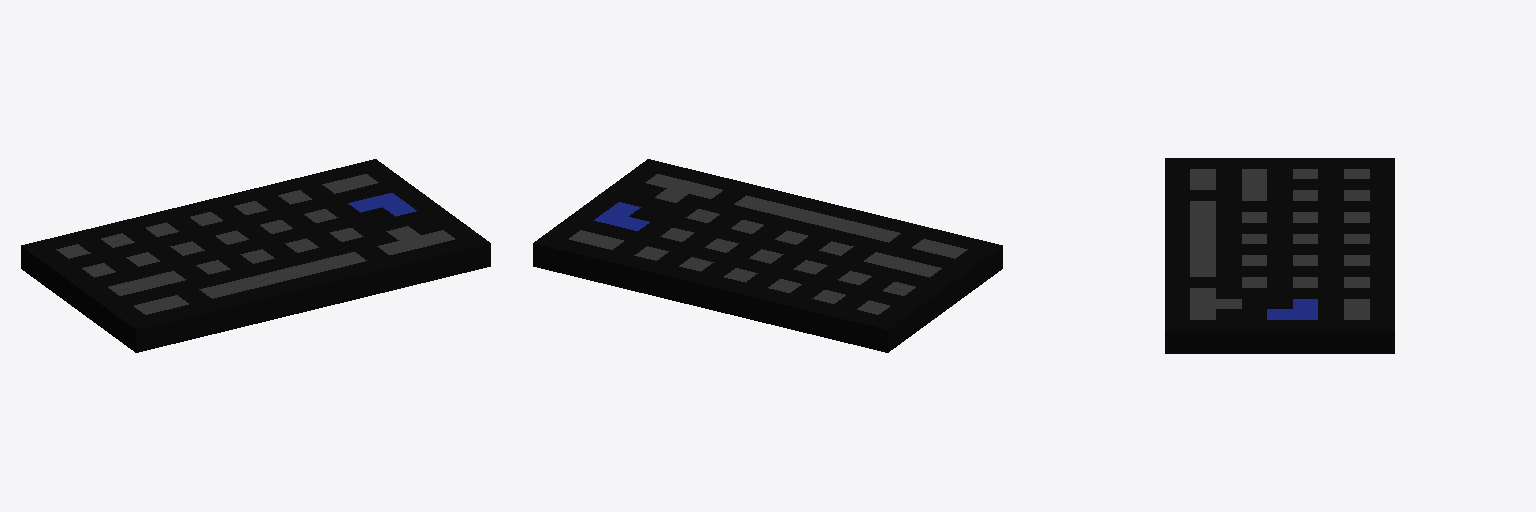
3 views of the same model, side by side, from view 1: azimuth 30°, elevation 25°; view 2: azimuth 150°, elevation 25°; view 3: azimuth 270°, elevation 25° (orthographic).
Visible parts, largest first — view 1: cube; view 2: cube; view 3: cube.
Boxes of the visible parts, x1=… form: cube: x1=21, y1=159, x2=490, y2=352; cube: x1=533, y1=159, x2=1002, y2=352; cube: x1=1165, y1=158, x2=1394, y2=353.
Size of the model in its own units: 1 by 0.0625 by 0.5625.
1 materials, 1 textured.